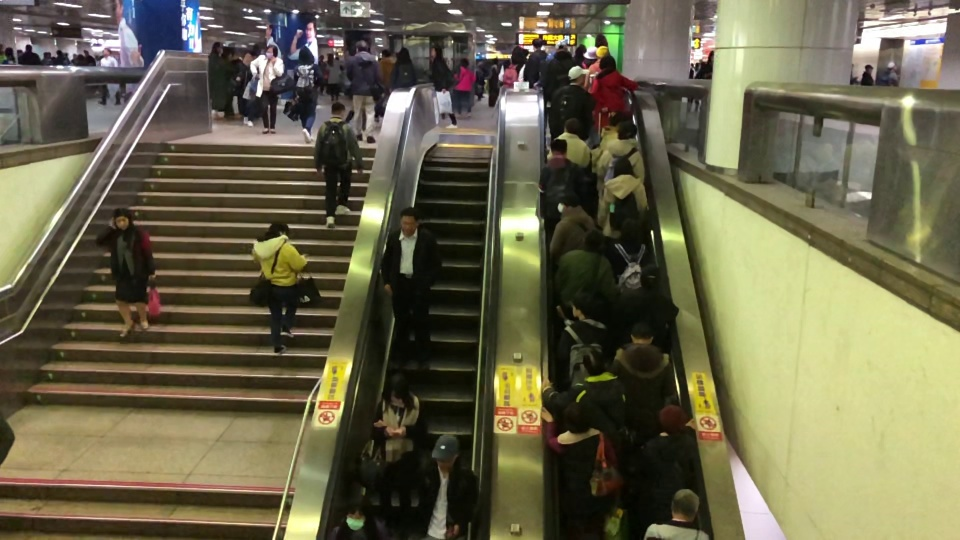person_head: (341, 491, 371, 532), (430, 433, 460, 472), (668, 488, 700, 522), (561, 400, 592, 435), (656, 403, 688, 434), (382, 373, 412, 405), (569, 292, 599, 321), (580, 347, 606, 376), (637, 263, 662, 292), (618, 218, 643, 244), (629, 321, 655, 346), (398, 207, 420, 236), (582, 227, 603, 255), (611, 156, 634, 179), (265, 220, 290, 241), (112, 206, 132, 231), (566, 65, 590, 85), (615, 121, 638, 141), (549, 138, 569, 159), (599, 54, 617, 76), (562, 117, 581, 137), (509, 45, 527, 65), (608, 109, 629, 126), (297, 45, 314, 64), (582, 45, 599, 64), (329, 101, 346, 118), (595, 45, 610, 62), (553, 39, 568, 54), (210, 41, 224, 56), (264, 45, 278, 60), (396, 47, 410, 62), (574, 43, 586, 59), (355, 40, 369, 53), (429, 45, 443, 58), (249, 44, 262, 56), (4, 46, 14, 59), (532, 37, 542, 50), (380, 47, 391, 58), (863, 63, 874, 74), (707, 50, 715, 64), (101, 46, 111, 57), (459, 57, 469, 68), (886, 61, 897, 71), (75, 53, 85, 62), (55, 49, 64, 58), (333, 55, 340, 66), (24, 43, 32, 52), (16, 49, 24, 58), (326, 53, 334, 62), (699, 62, 707, 71), (43, 51, 50, 59), (318, 54, 325, 62), (491, 57, 498, 65), (478, 60, 485, 68), (694, 63, 701, 71), (83, 49, 90, 56), (0, 43, 4, 55), (688, 62, 694, 69)
person_vbox: (540, 399, 621, 540), (379, 207, 442, 373), (539, 346, 643, 444), (628, 402, 699, 540), (369, 373, 428, 533), (94, 206, 156, 338), (608, 321, 678, 437), (249, 220, 308, 355), (413, 434, 478, 540), (313, 101, 364, 230), (609, 263, 679, 355), (555, 291, 616, 391), (537, 138, 591, 248), (552, 227, 616, 314), (595, 156, 648, 240), (587, 54, 642, 132), (540, 39, 581, 142), (548, 65, 598, 149), (345, 40, 382, 144), (603, 218, 655, 291), (595, 120, 645, 192), (642, 488, 710, 540), (248, 45, 285, 136), (291, 45, 324, 144), (327, 491, 392, 540), (427, 45, 458, 129), (207, 40, 240, 118), (545, 117, 591, 169), (591, 109, 630, 165), (239, 43, 262, 128), (373, 46, 395, 123), (452, 57, 476, 119), (97, 46, 121, 106), (582, 46, 611, 91), (523, 37, 548, 88), (497, 45, 527, 86), (389, 47, 416, 90), (699, 49, 716, 111), (325, 55, 341, 103), (322, 52, 335, 97), (694, 62, 707, 106), (488, 57, 499, 107), (17, 43, 41, 65), (579, 45, 599, 70), (572, 42, 589, 69), (476, 60, 487, 101), (884, 60, 899, 86), (859, 63, 873, 86), (318, 53, 325, 97), (1, 46, 18, 64), (687, 63, 694, 103), (53, 49, 68, 65), (82, 49, 96, 66), (39, 51, 54, 65), (70, 53, 85, 66), (0, 43, 5, 65)
